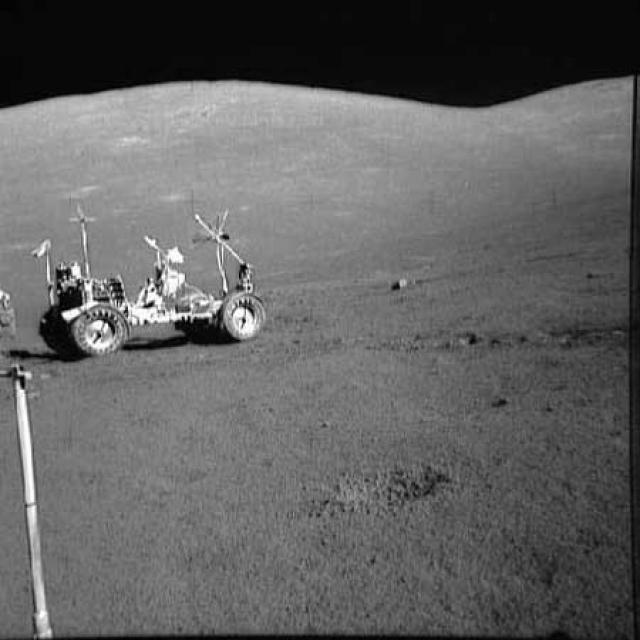artifact: (25, 176, 284, 360), (0, 283, 83, 639)
crater: (372, 306, 632, 362)
